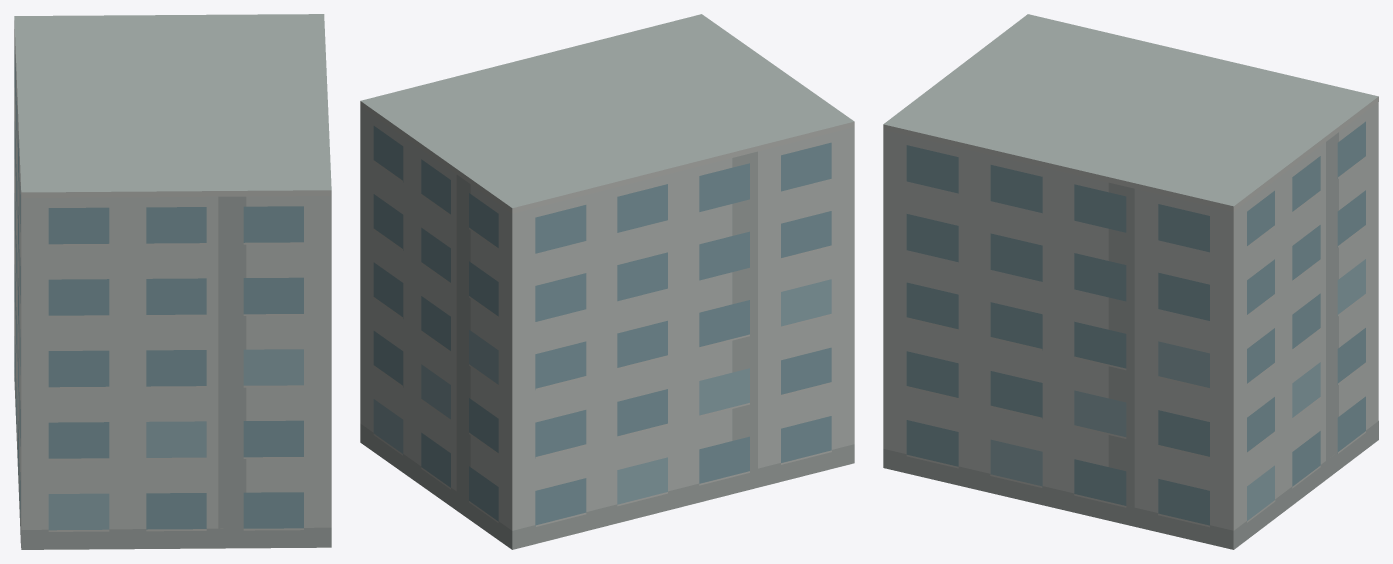
Rendered from survey-upis-32877633.glb.
3 views of the same model, side by side, from view 1: azimuth 30°, elevation 25°; view 2: azimuth 150°, elevation 25°; view 3: azimuth 270°, elevation 25° (orthographic). The views are drawn at different scales.
Visible parts, largest first — view 1: survey-upis-32877633.tmp; view 2: survey-upis-32877633.tmp; view 3: survey-upis-32877633.tmp.
Boxes of the visible parts, bbox=[...] form: survey-upis-32877633.tmp: bbox=[14, 14, 331, 549]; survey-upis-32877633.tmp: bbox=[360, 14, 854, 549]; survey-upis-32877633.tmp: bbox=[883, 14, 1378, 549].
Bounding box in the file's own units: 18.32 × 15.25 × 19.94.
